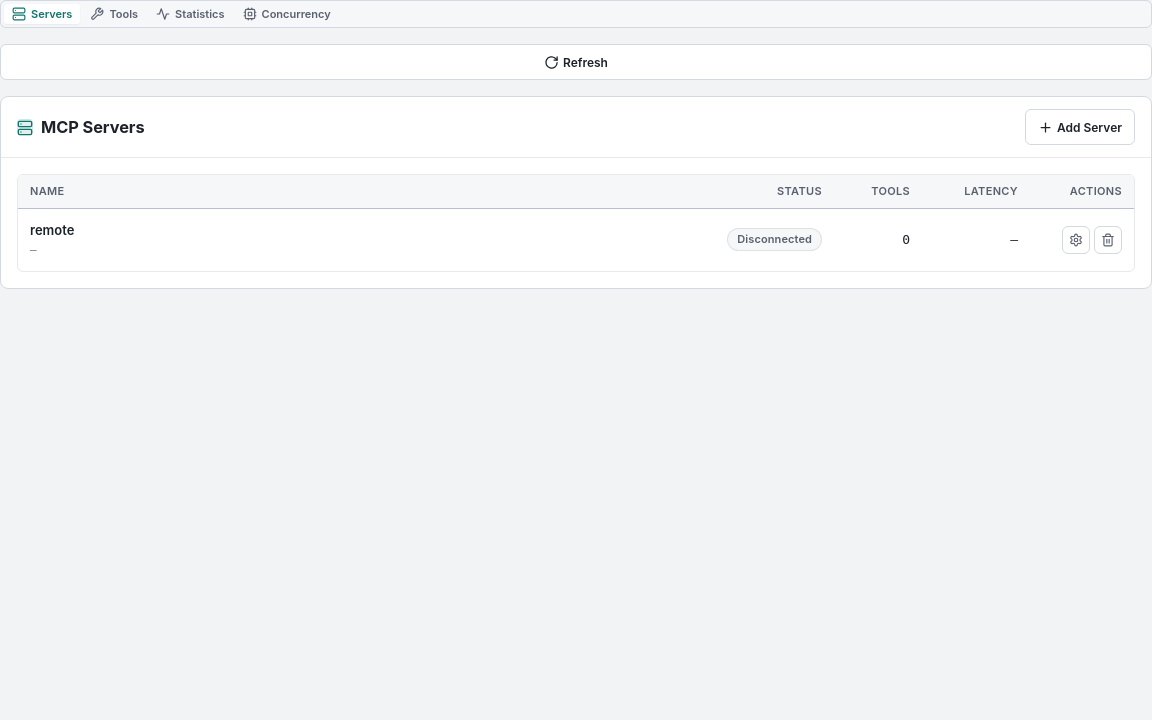
Test: McpManager.vue › loads editable server config before opening the edit modal
Click the 1st button with class "icon-btn".
click(1076, 240)  # box [1062,226,1090,254]
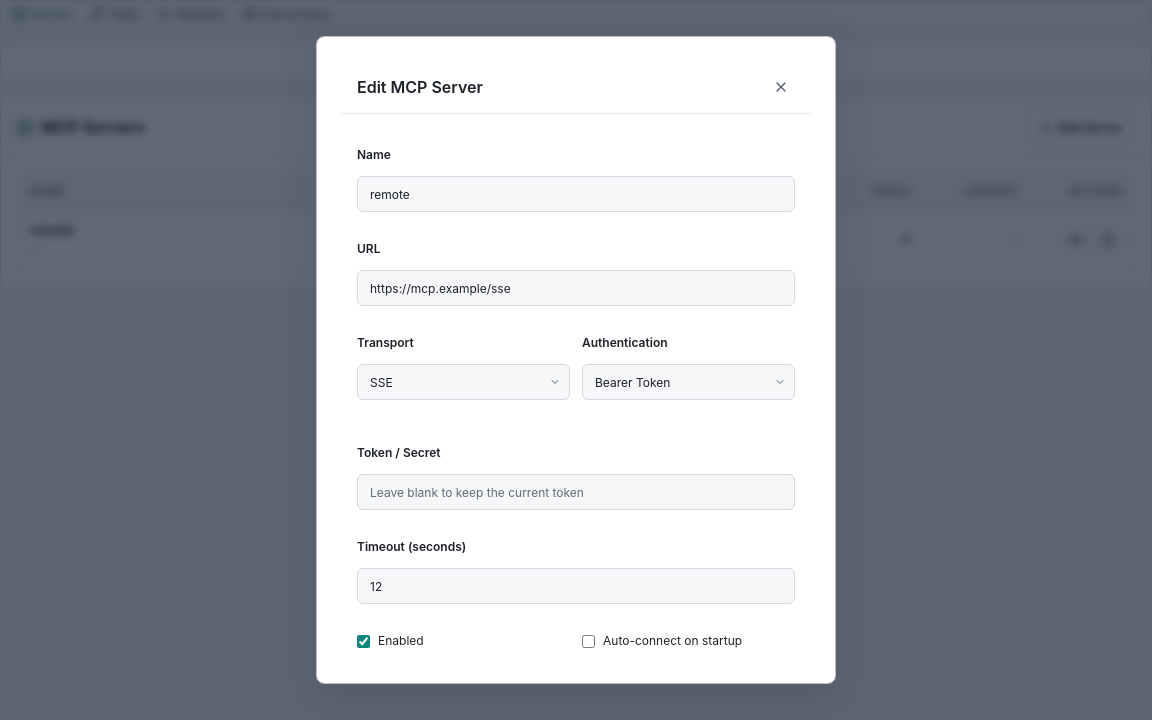
Check: the dialog with class "modal-overlay" is shown
Check: the field with placeholder "Name" holds "remote", box [357,176,795,212]
Check: the field labelled "URL" holds "https://mcp.example/sse", box [357,270,795,306]
